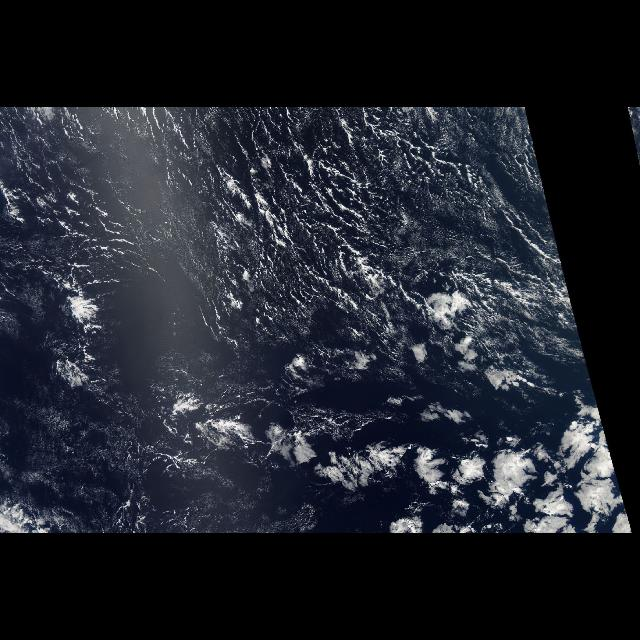Flower: (263, 402, 633, 532)
Gravel: (3, 108, 525, 318)
Sugar: (5, 413, 266, 533), (380, 165, 570, 295)
